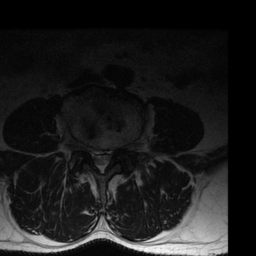CCS_normal: (97, 143, 105, 179)
LFS_severe_stenosis: (113, 141, 122, 159)
LLS_normal: (105, 142, 113, 165)
RFS_stenosis: (81, 138, 90, 160)
RLS_normal: (90, 143, 97, 164)
